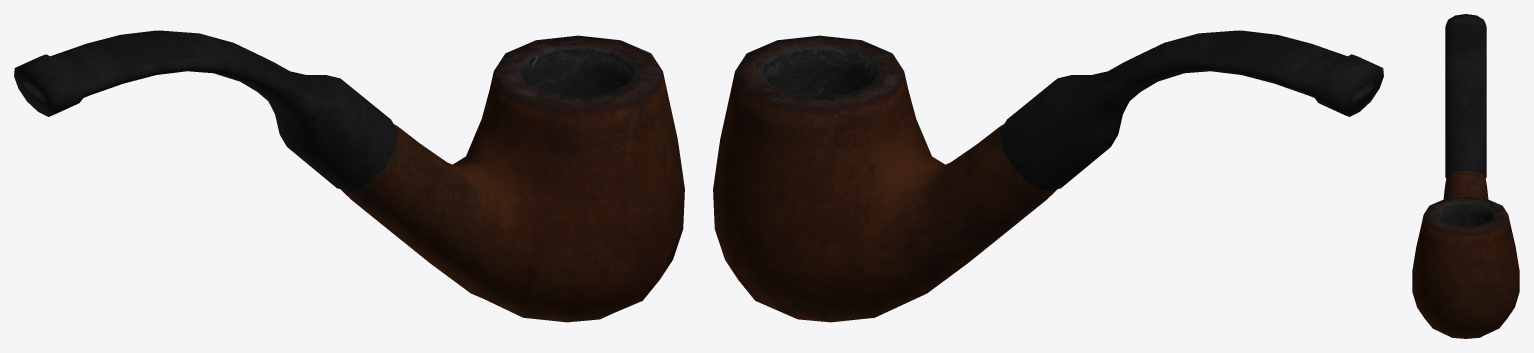
File: wooden_pipe.glb
3 renders of one model, left to right at view 1: azimuth 30°, elevation 25°; view 2: azimuth 150°, elevation 25°; view 3: azimuth 270°, elevation 25°, orthographic. The views are drawn at different scales.
Visible parts, largest first — view 1: Kop_LowRes, Steel_LowRes; view 2: Kop_LowRes, Steel_LowRes; view 3: Kop_LowRes, Steel_LowRes.
Part boxes in pixels (left/top/right/bottom): Kop_LowRes: left=341, top=35, right=684, bottom=322; Steel_LowRes: left=14, top=30, right=398, bottom=191; Kop_LowRes: left=713, top=35, right=1056, bottom=322; Steel_LowRes: left=999, top=30, right=1383, bottom=191; Kop_LowRes: left=1412, top=170, right=1519, bottom=338; Steel_LowRes: left=1445, top=14, right=1486, bottom=177.
Size of the model in its own units: 0.1693 by 0.0944 by 0.0493.
1 material, 1 textured.
